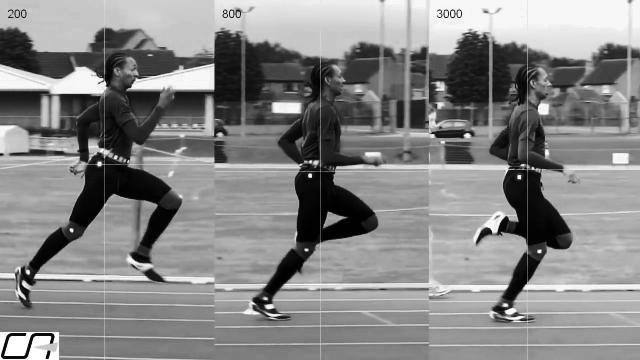berlari: (12, 45, 190, 311), (248, 57, 389, 327), (463, 58, 593, 332)
